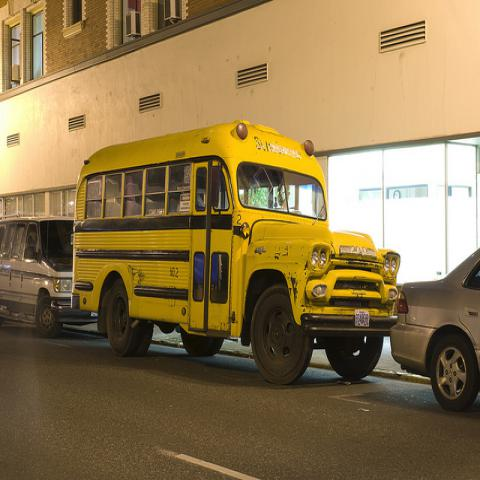bus: (73, 120, 401, 380)
car: (392, 253, 479, 416), (0, 213, 98, 340)
